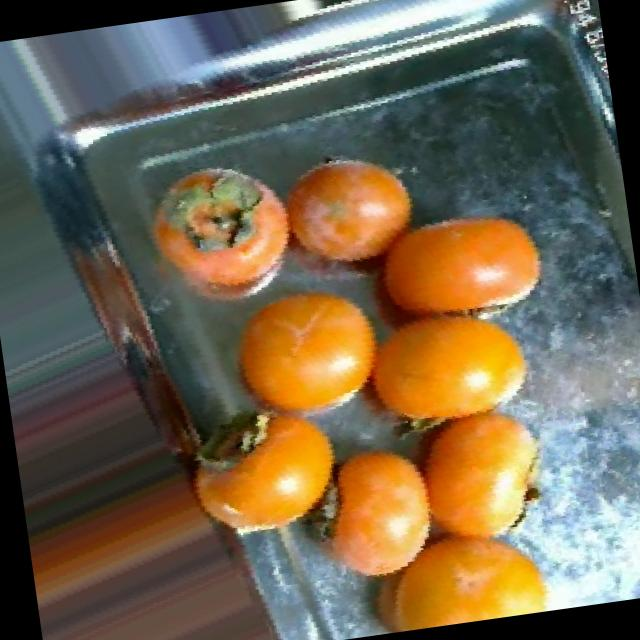Fruit: (165, 391, 368, 565), (205, 263, 402, 434), (372, 188, 564, 336), (257, 134, 438, 290)
